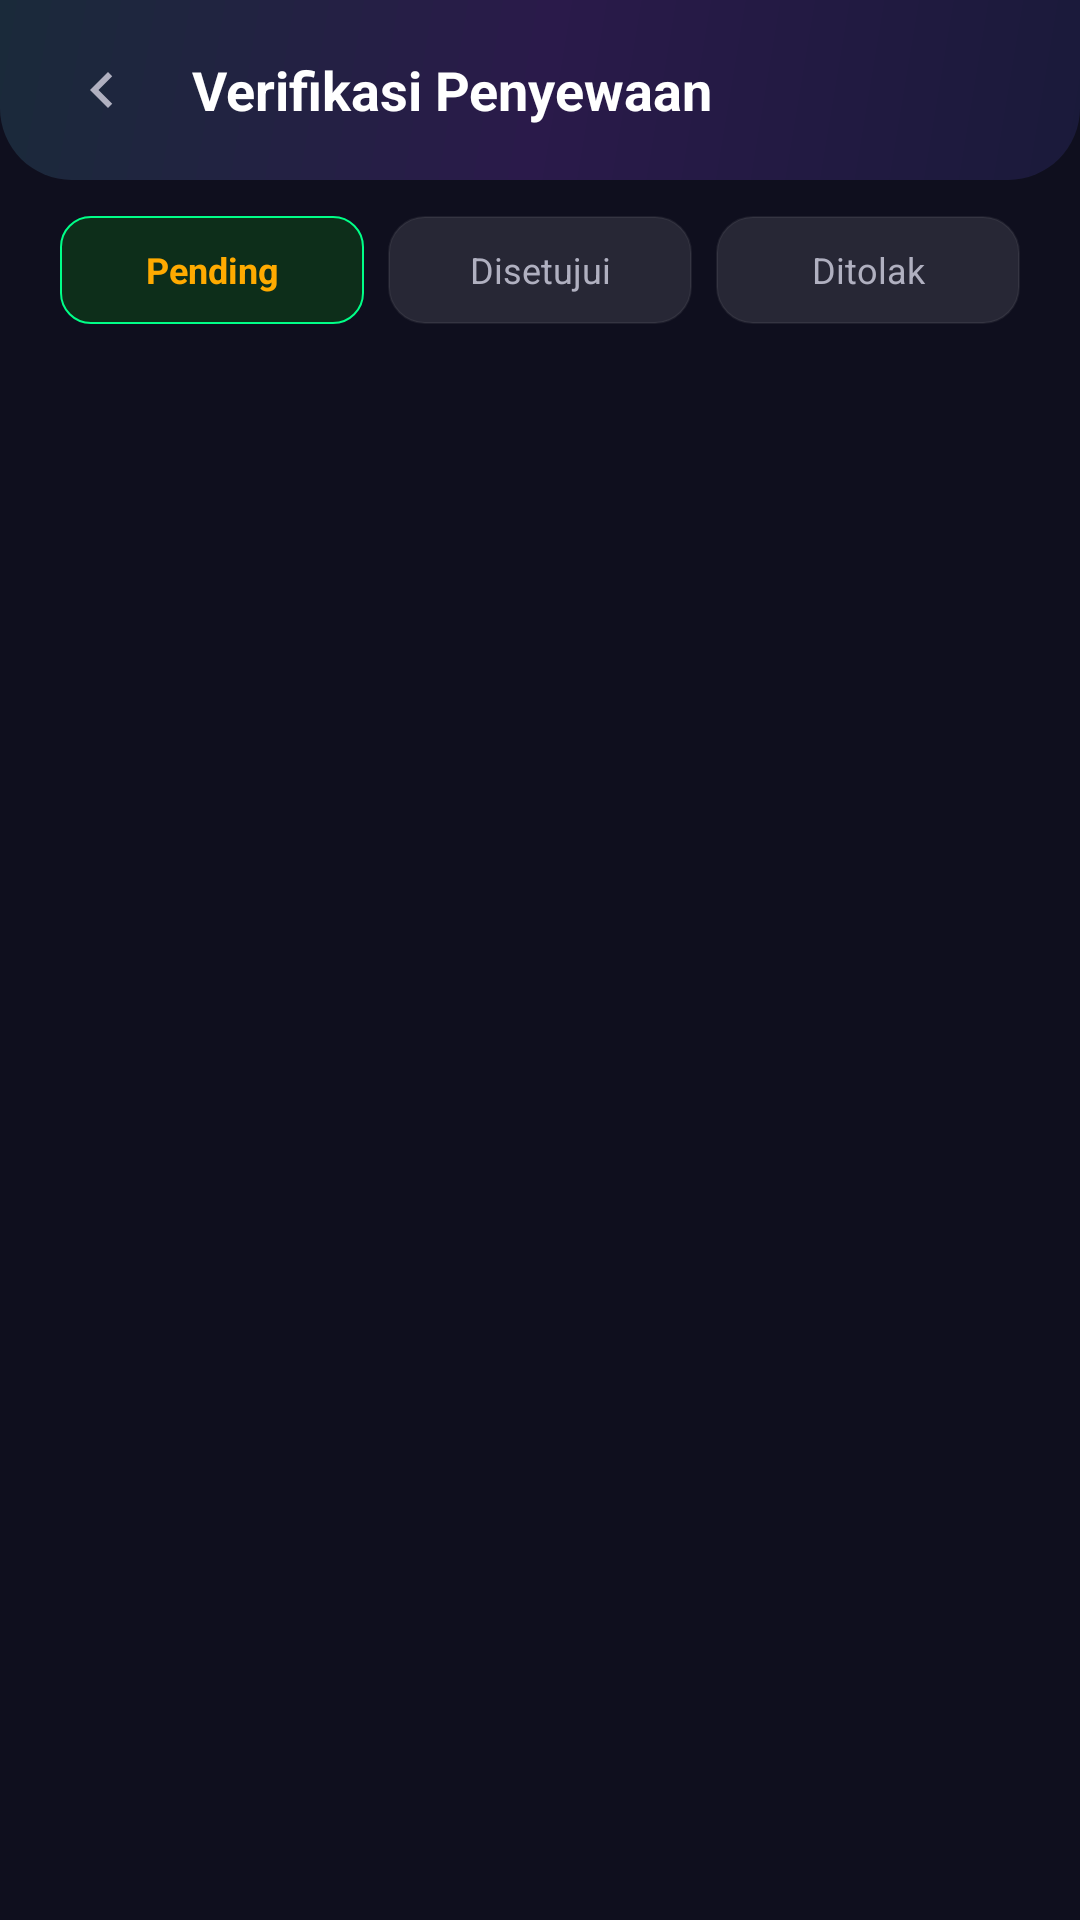

Where to tap for icons on this 1080x1920 app screen, as [x,y]:
Kembali: [101,90]
